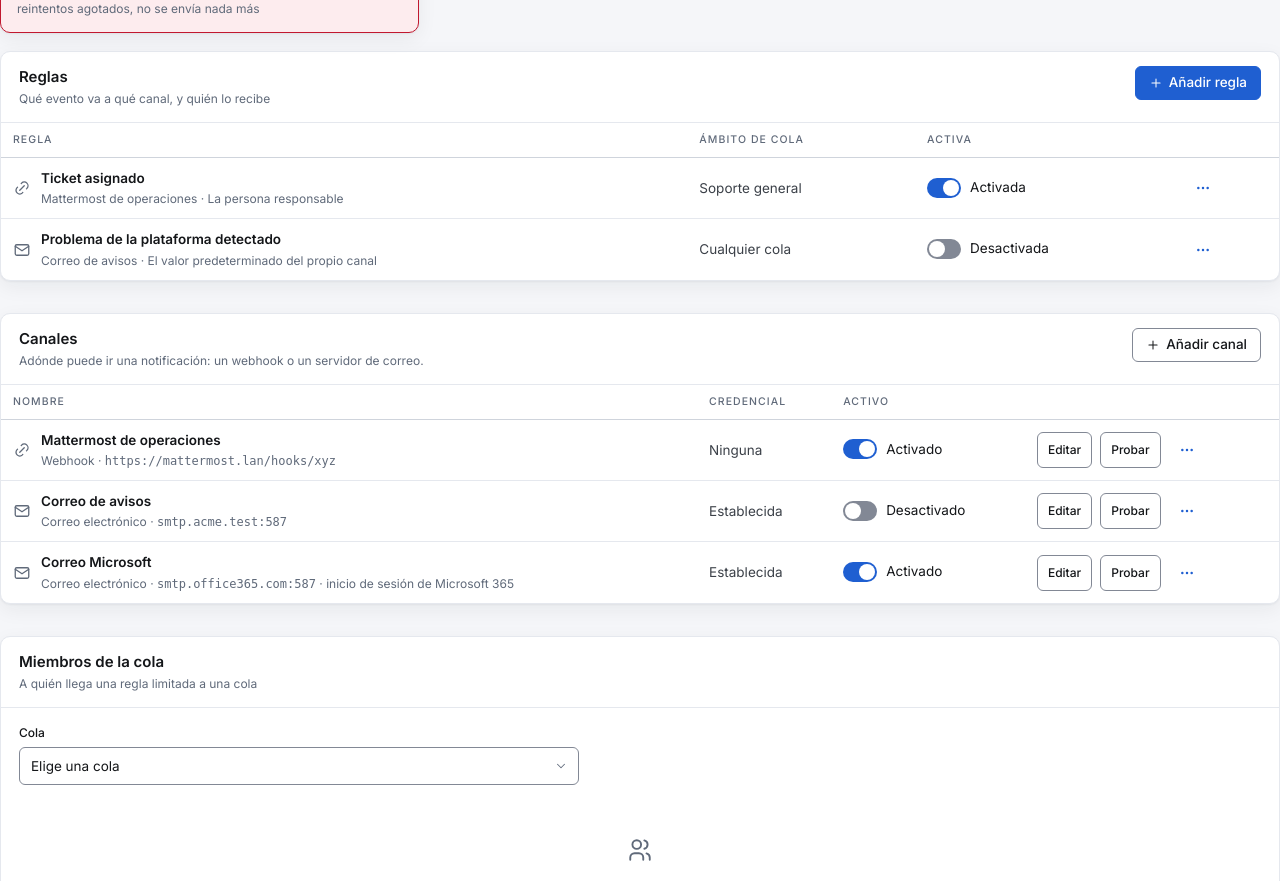
Test case: the channels in Spanish › words a delivered test, a refused one and its known reason, and an unknown reason without printing it raw
(page scrolled)
Expected: the text "Mattermost de operaciones" below "Nombre" is shown, x1=41 y1=432 x2=221 y2=448
Click the button "Probar" in the row of "https://mattermost.lan/hooks/xyz" at x=1130, y=450, box x1=1100 y1=432 x2=1161 y2=468
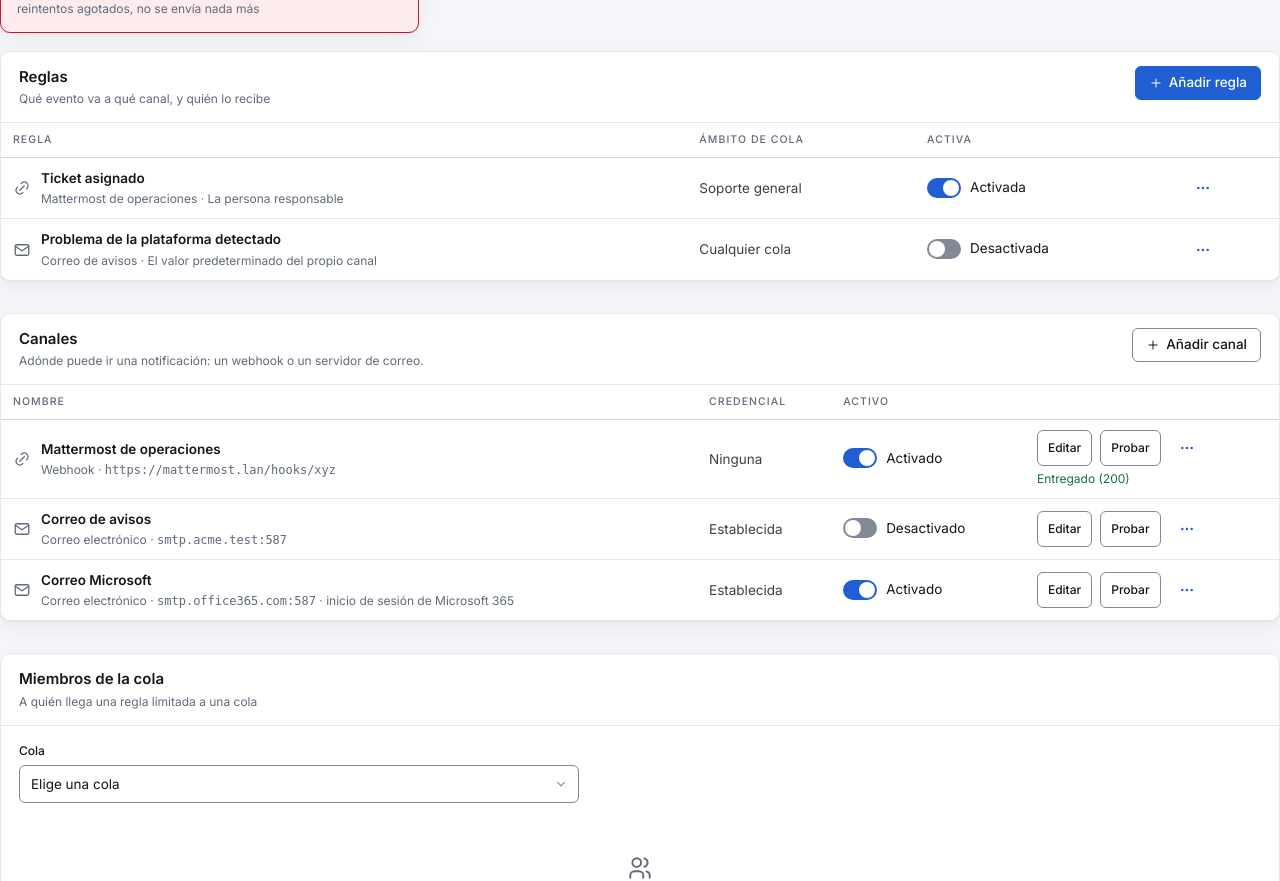
Now the message reads "Entregado (200)", box x1=1037 y1=471 x2=1130 y2=486
Click the button "Probar" in the row of "https://mattermost.lan/hooks/xyz" at x=1130, y=448, box x1=1100 y1=430 x2=1161 y2=466
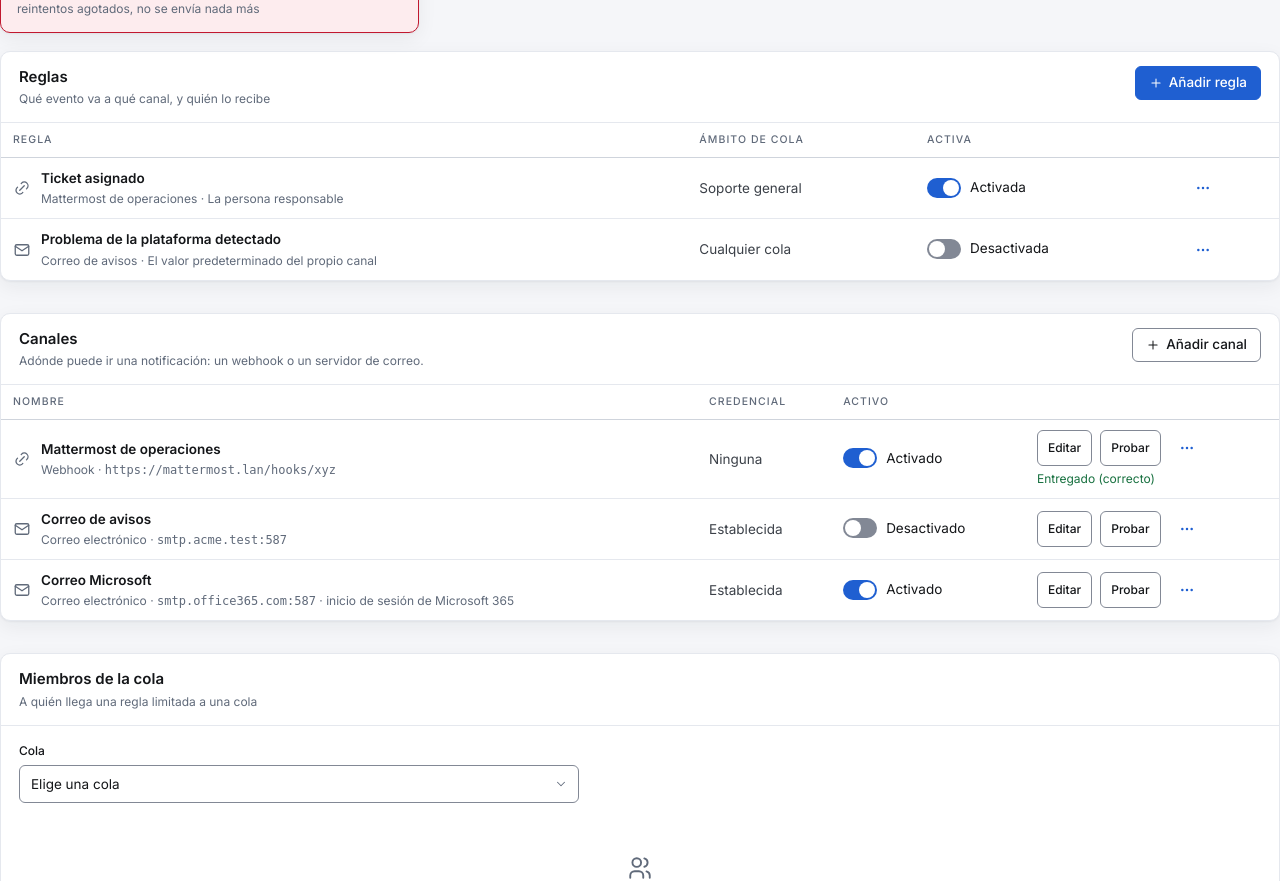
Now the text "Entregado (correcto)" is shown, box x1=1037 y1=471 x2=1155 y2=486
Click the button "Probar" in the row of "https://mattermost.lan/hooks/xyz" at x=1130, y=448, box x1=1100 y1=430 x2=1161 y2=466
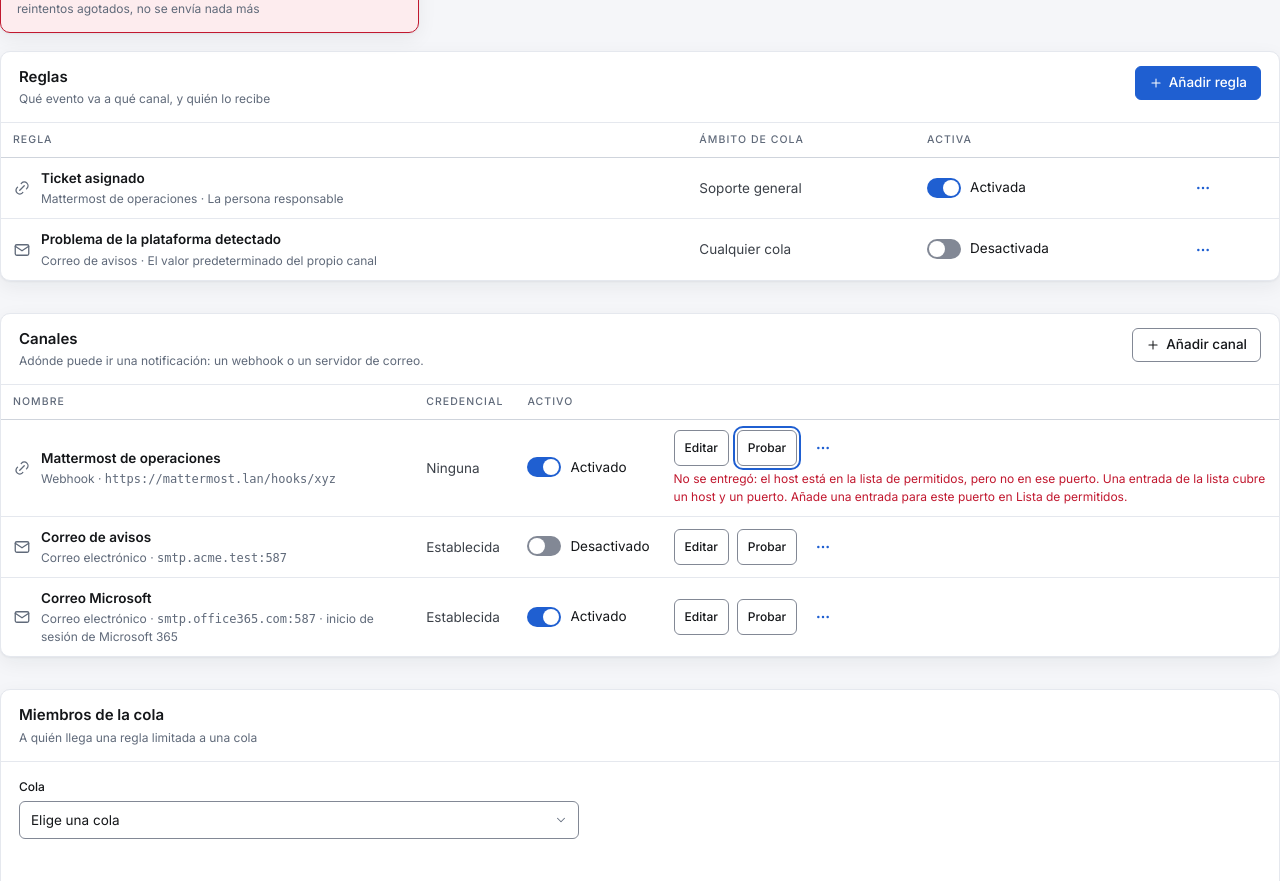
Now the text "Not delivered: the host is allowlisted but not on that port." is shown, box x1=674 y1=470 x2=1267 y2=506
Now the text "No se entregó: el host está en la lista de permitidos, pero no en ese puerto." is shown, box x1=674 y1=471 x2=1265 y2=504
Click the 1st button "Probar" at x=767, y=448, box x1=737 y1=430 x2=797 y2=466
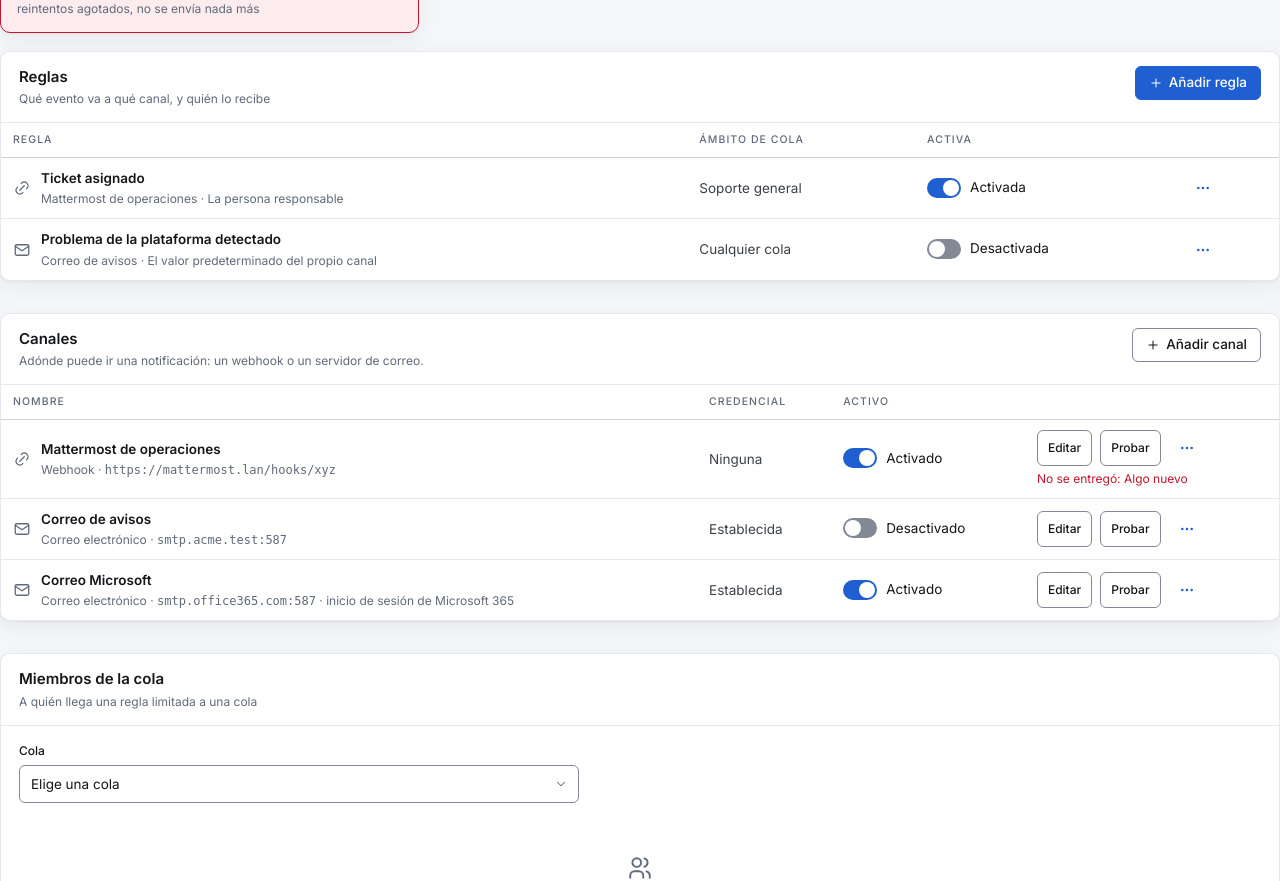
Now the text "No se entregó: Algo nuevo" is shown, box x1=1037 y1=471 x2=1188 y2=486
Click the button "Probar" in the row of "https://mattermost.lan/hooks/xyz" at x=1130, y=448, box x1=1100 y1=430 x2=1161 y2=466
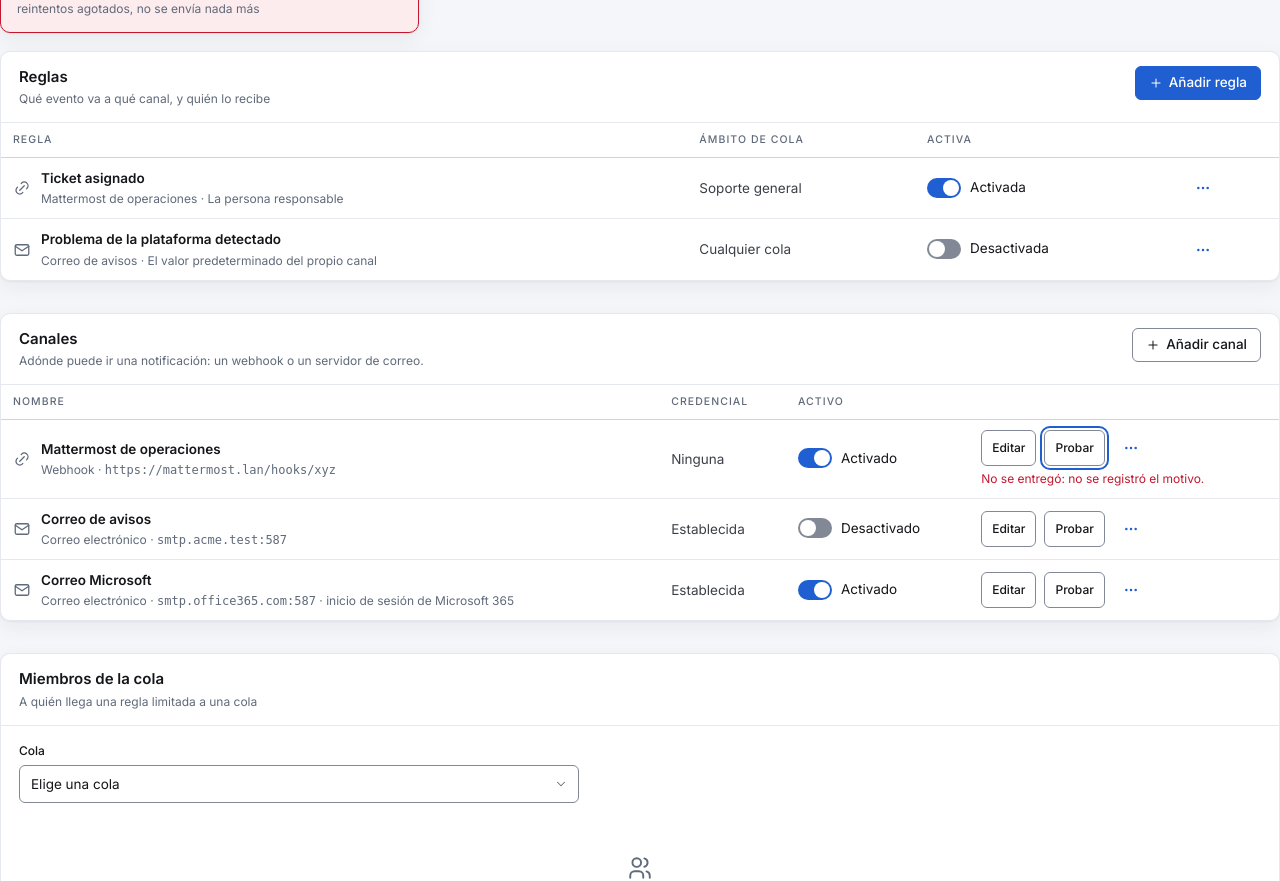
Now the text "No se entregó: no se registró el motivo." is shown, box x1=981 y1=471 x2=1204 y2=486
